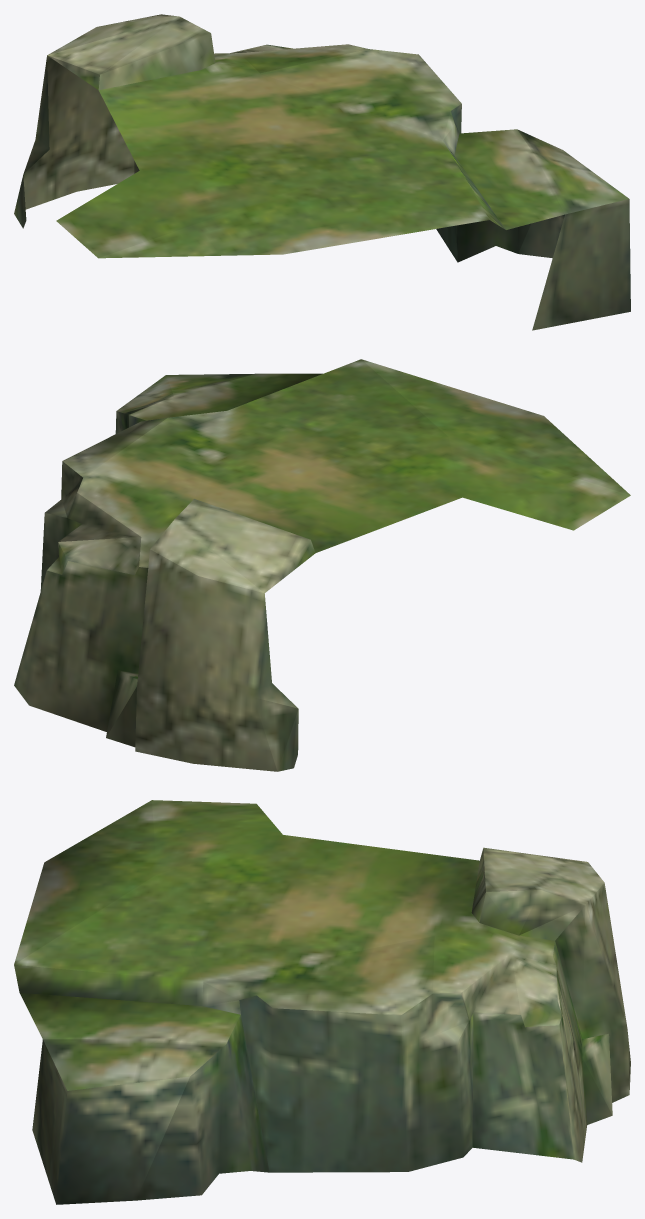
The model's file is S_Rock_Green054_1060_19.fbx.
The picture shows the model from 3 angles, top to bottom: view 1: azimuth 30°, elevation 25°; view 2: azimuth 150°, elevation 25°; view 3: azimuth 270°, elevation 25°; orthographic projection. The views are drawn at different scales.
Visible parts, largest first — view 1: S_Rock_Green054_1060_19; view 2: S_Rock_Green054_1060_19; view 3: S_Rock_Green054_1060_19.
Part boxes in pixels (x1,y1,x2,y2): S_Rock_Green054_1060_19: (14, 14, 630, 330); S_Rock_Green054_1060_19: (14, 359, 630, 771); S_Rock_Green054_1060_19: (14, 800, 630, 1204).
Bounding box in the file's own units: 1547 × 608 × 1570.
Materials: 1 (1 with a texture image).
